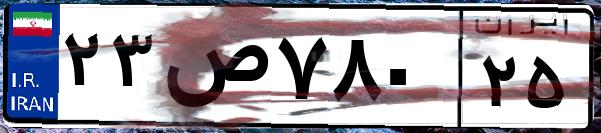0: (385, 28, 445, 110)
2: (57, 26, 110, 100), (475, 38, 525, 113)
3: (110, 28, 158, 98)
5: (525, 38, 570, 115)
7: (270, 28, 330, 110)
8: (330, 28, 385, 110)
ص: (158, 20, 270, 120)
